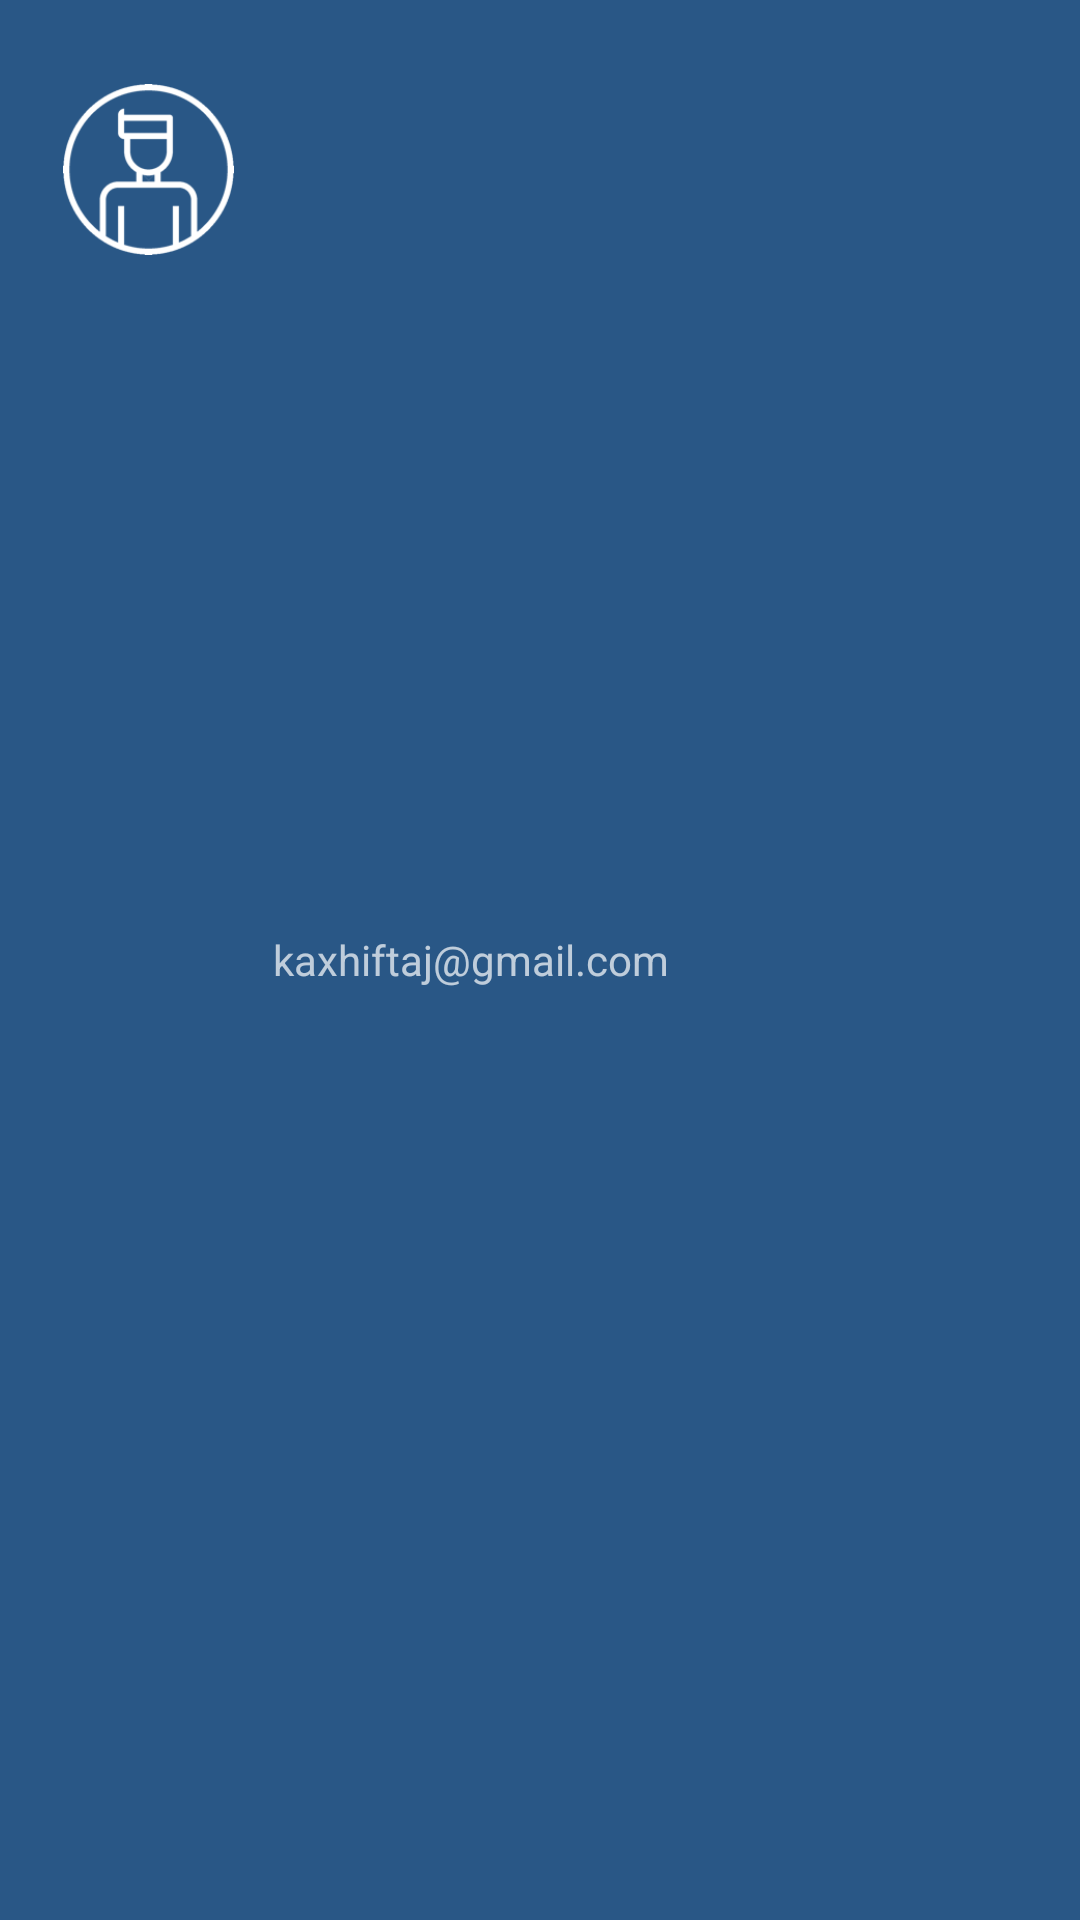

Where icons sit on this 1080px×1920px app screen, as (x1, y1, x2, y2):
account: (63, 84, 234, 255)
